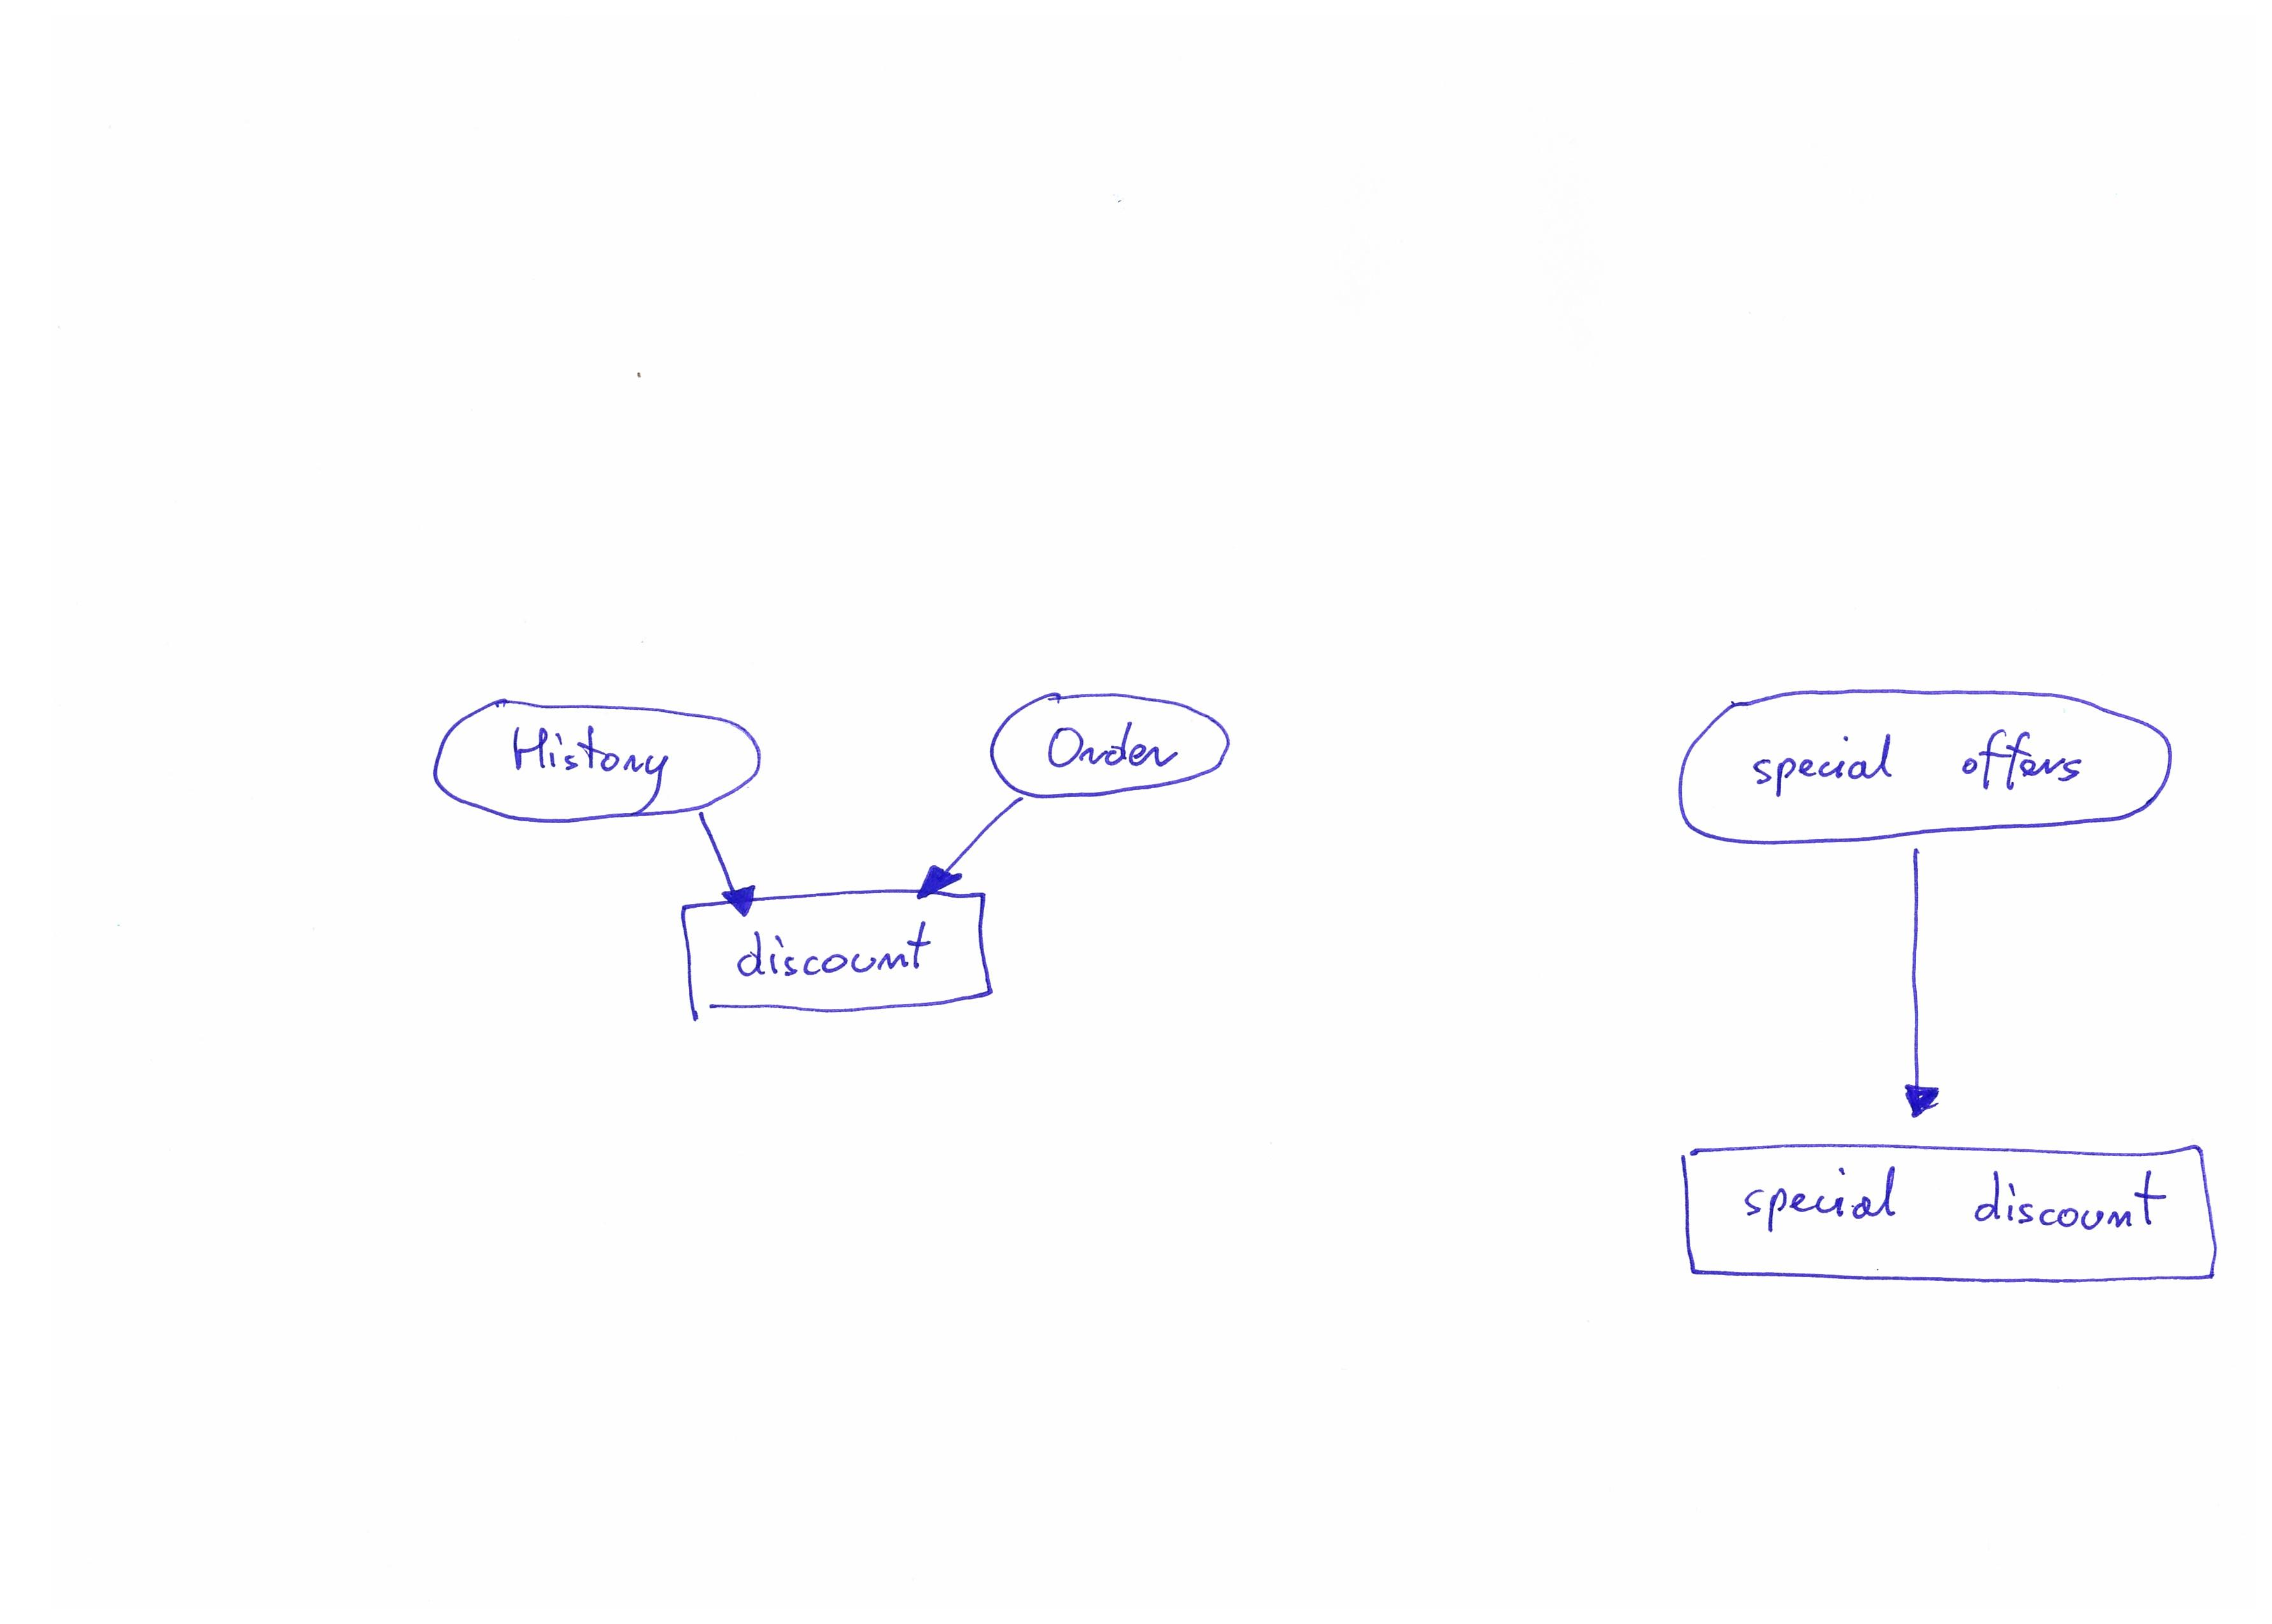arrow_information_requirement: (1878, 838, 1947, 1128), (898, 796, 1035, 905), (689, 808, 766, 919)
node_decision: (1668, 1134, 2235, 1295), (675, 895, 1005, 1028)
node_input_data: (1668, 680, 2196, 847), (422, 685, 777, 828), (980, 684, 1248, 801)
text: (1736, 1160, 2184, 1257), (1747, 717, 2103, 810), (720, 917, 959, 991), (497, 721, 678, 801), (1038, 715, 1186, 777)
